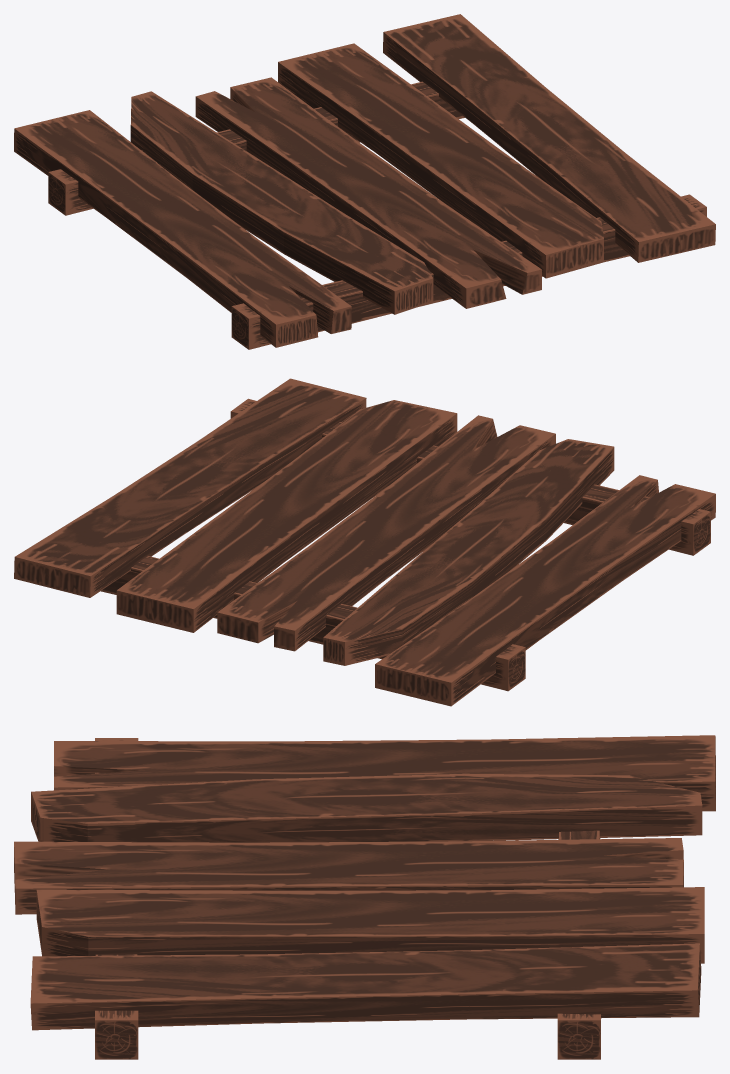
The model's file is Wood_pallete.fbx.
3 views of the same model, one above another, from view 1: azimuth 30°, elevation 25°; view 2: azimuth 150°, elevation 25°; view 3: azimuth 270°, elevation 25° (orthographic). The views are drawn at different scales.
Visible parts, largest first — view 1: Wood_pallete; view 2: Wood_pallete; view 3: Wood_pallete.
Boxes of the visible parts, box(x1,y1,x2,y2) form: Wood_pallete: box(14, 14, 715, 349); Wood_pallete: box(14, 378, 715, 706); Wood_pallete: box(14, 735, 715, 1059).
Bounding box in the file's own units: 2 × 0.214 × 2.1.
